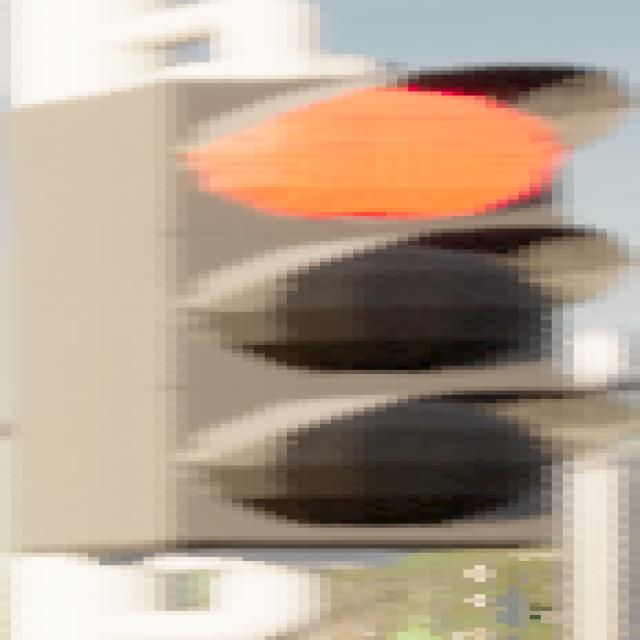red_light: (0, 66, 640, 548)
